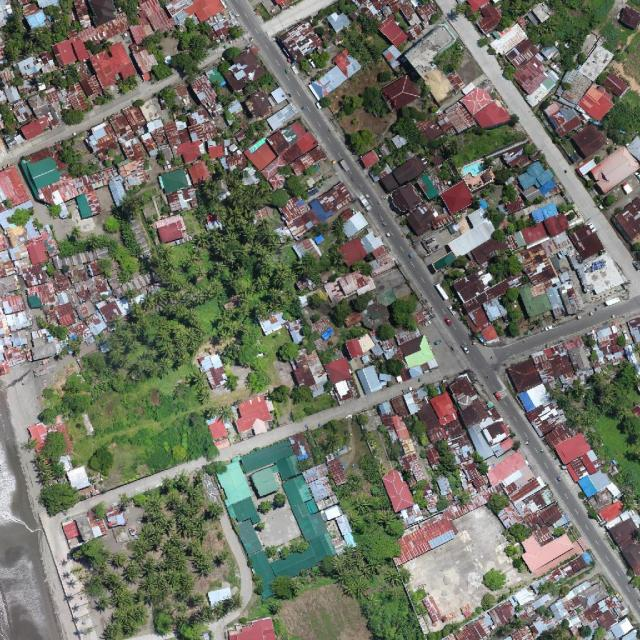building: (449, 9, 640, 299), (469, 37, 640, 299), (16, 71, 329, 199), (219, 47, 267, 94), (305, 43, 334, 72)
greenland: (40, 201, 385, 487), (70, 508, 248, 640), (260, 538, 423, 630), (390, 107, 525, 168), (402, 585, 454, 636), (551, 131, 581, 161), (621, 106, 640, 129)
metalled_road: (295, 0, 640, 410), (448, 8, 640, 299), (228, 0, 288, 75)
unmetalled_road: (448, 7, 640, 299), (56, 456, 206, 523), (38, 513, 55, 544), (434, 282, 450, 302)
